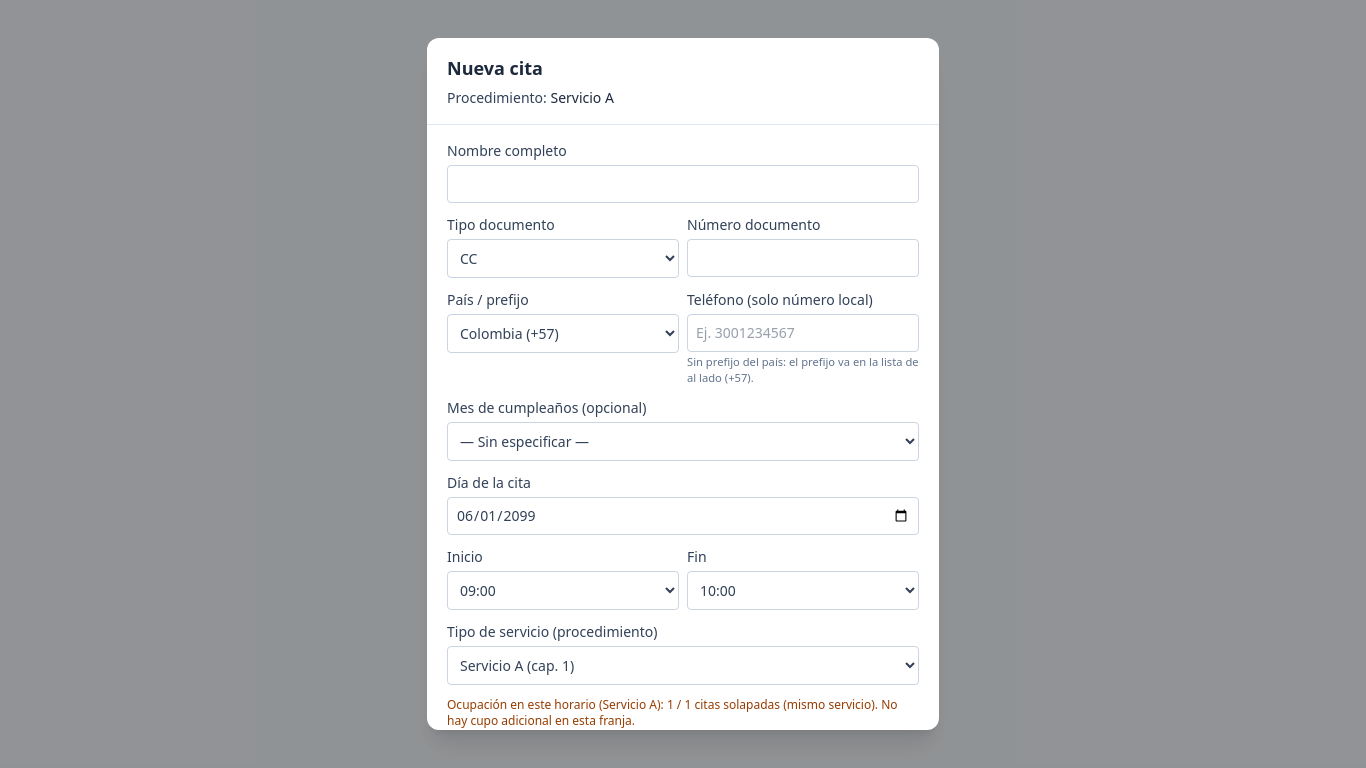
Test: AppointmentModal › bloquea el guardado cuando el cupo concurrente ya está lleno
Type "María Pérez García" into the 1st field at {"x": 683, "y": 184}, box 447,165 -> 919,203
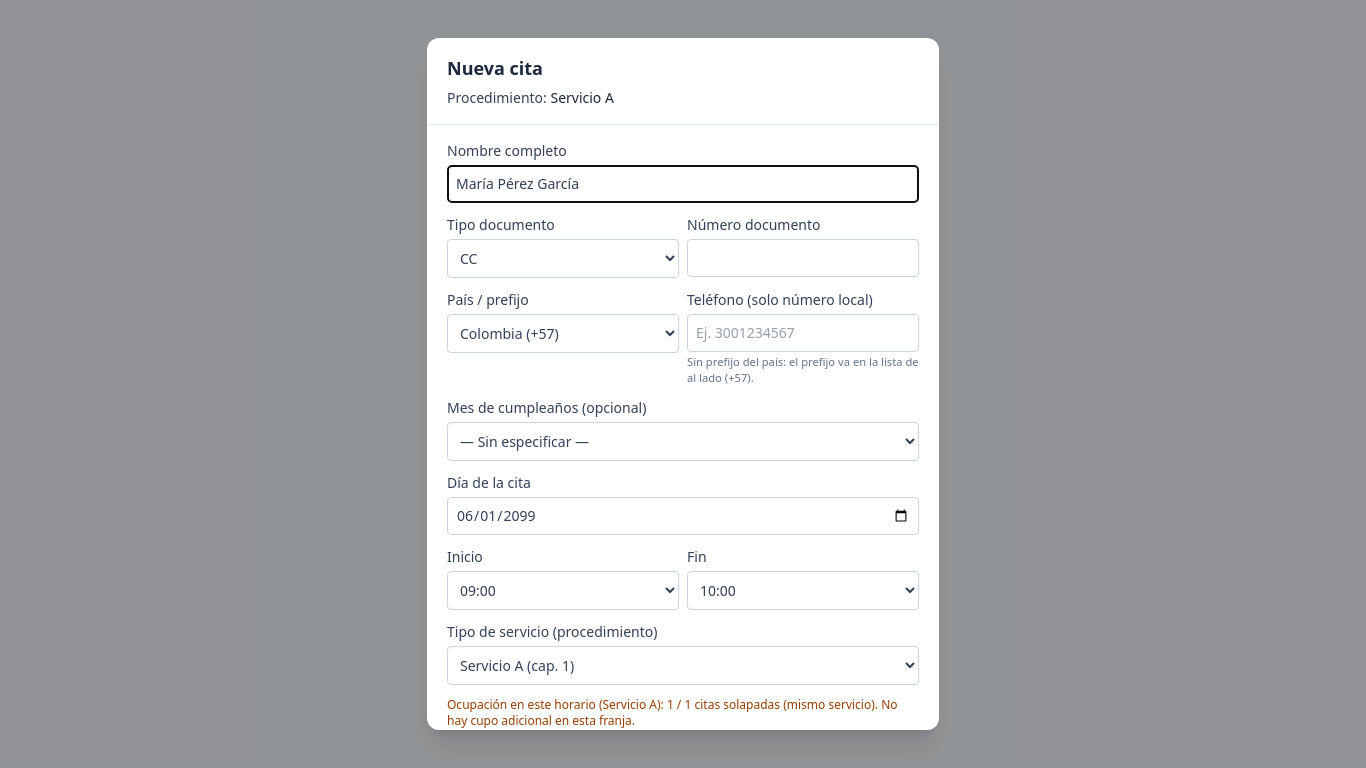
Type "1234567890" into the field labelled "Número documento" at {"x": 803, "y": 258}, box 687,239 -> 919,277
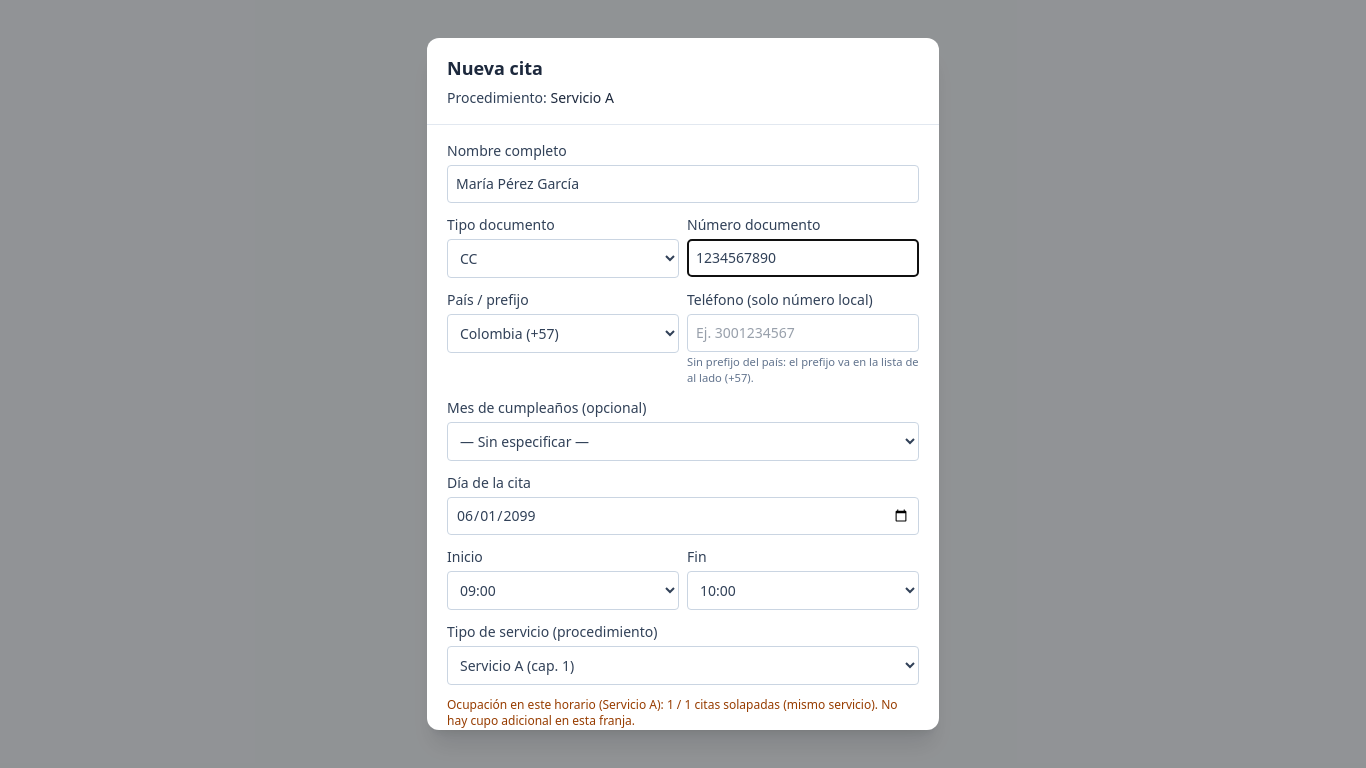
Type "3001234567" into the field labelled "Teléfono (solo número local)" at {"x": 803, "y": 333}, box 687,314 -> 919,352
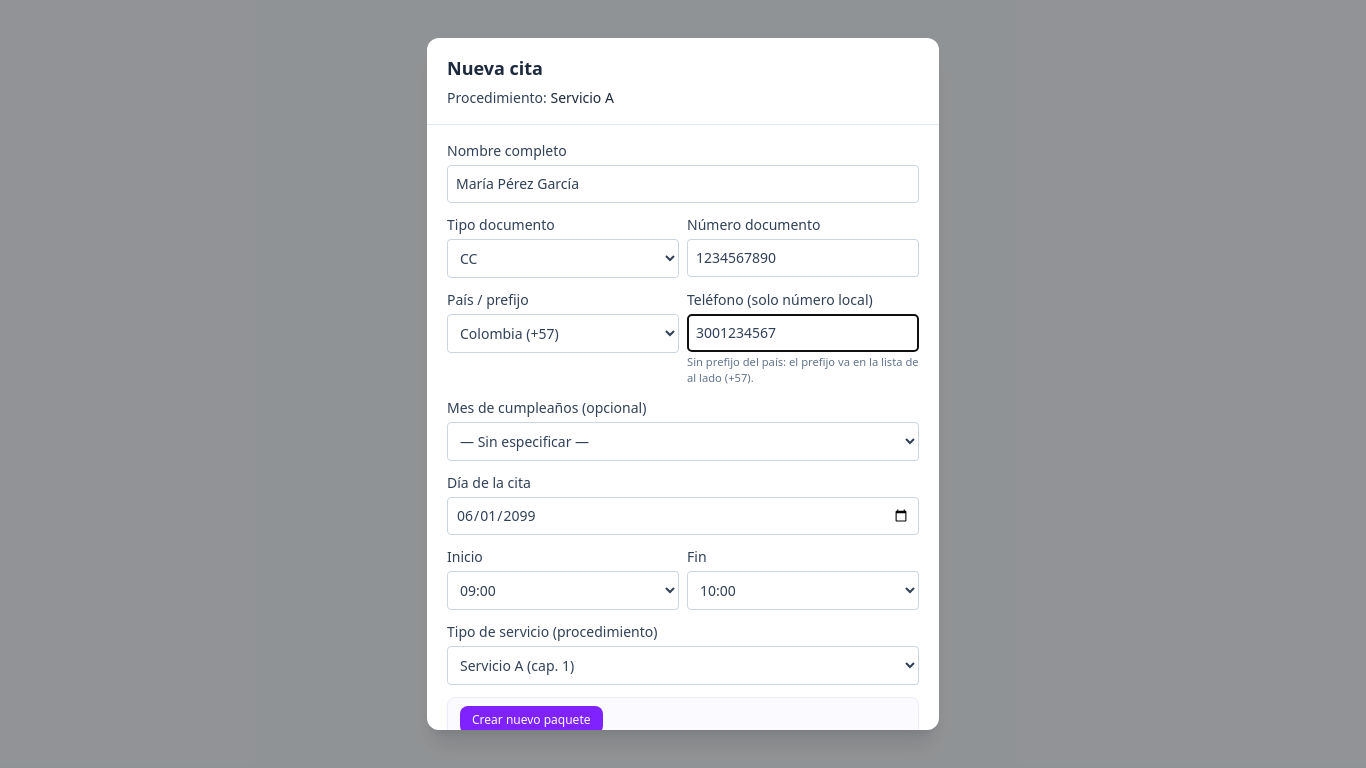
Select "09:00" in the dropdown labelled "Inicio" at {"x": 563, "y": 591}, box 447,571 -> 679,610
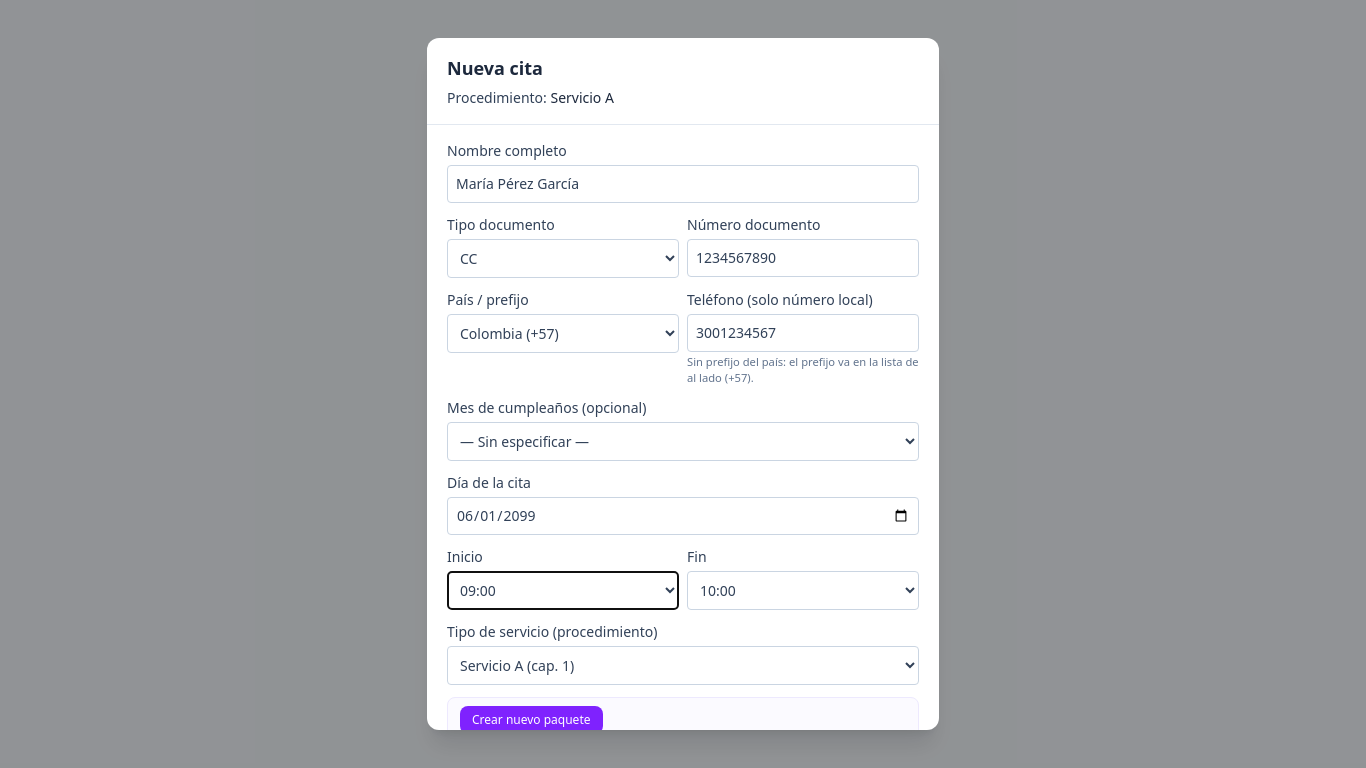
Select "10:00" in the dropdown labelled "Fin" at {"x": 803, "y": 591}, box 687,571 -> 919,610
(page scrolled)
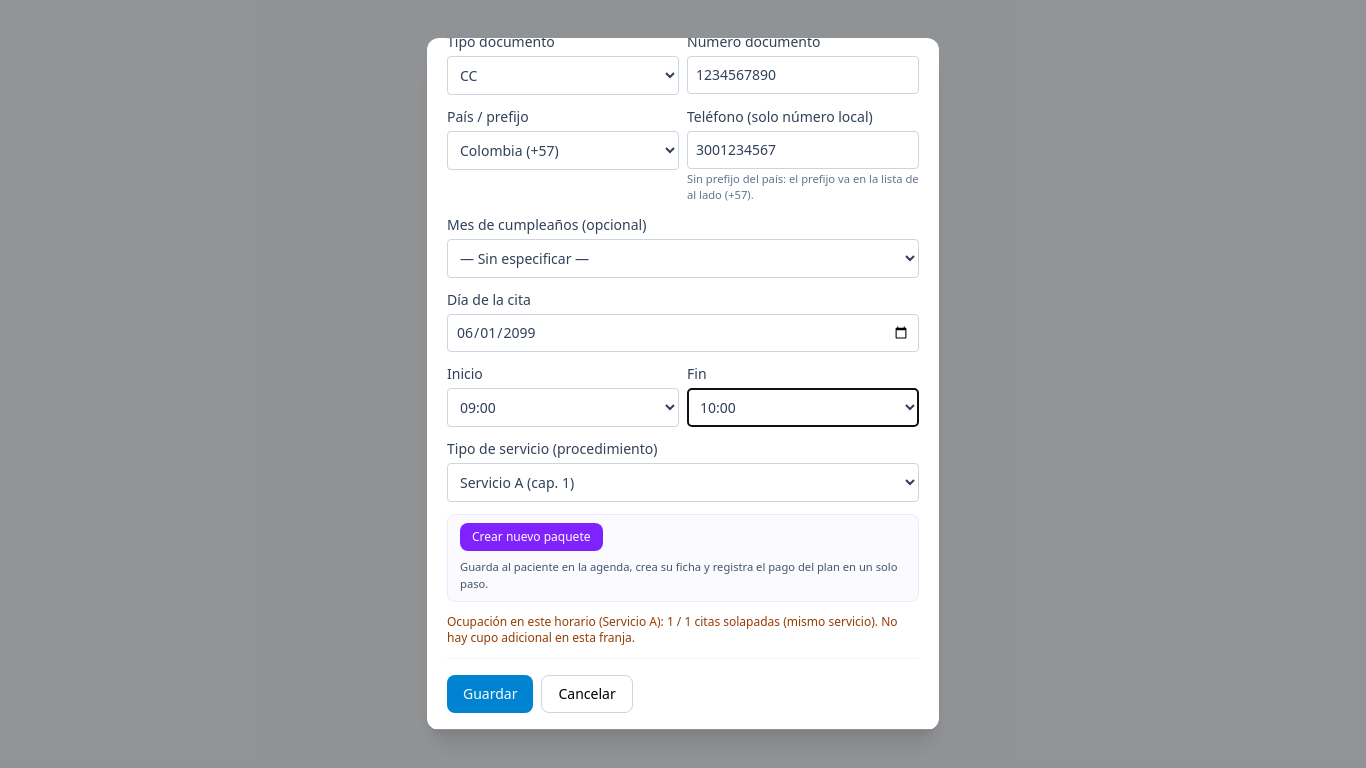
Click the button "Guardar" at {"x": 490, "y": 694}, box 447,675 -> 534,713
(page scrolled)
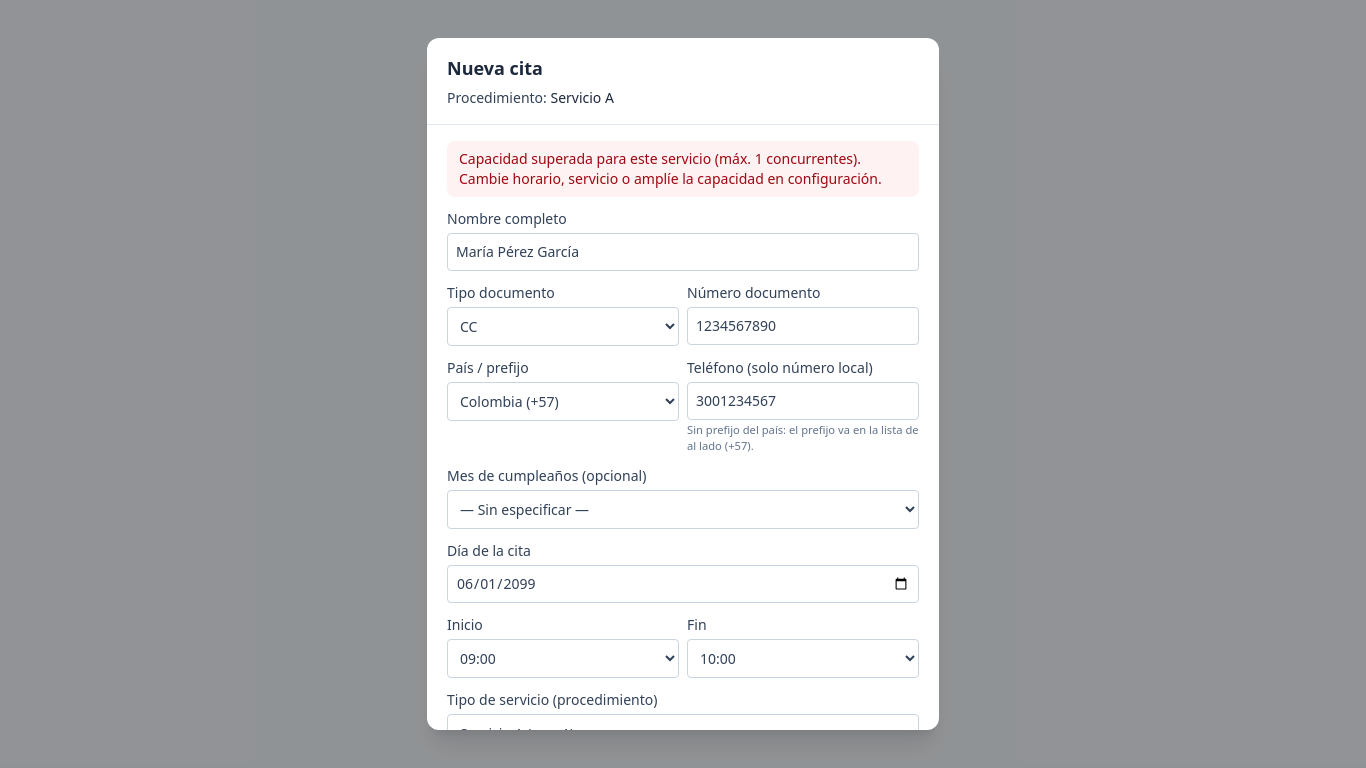
Now the message shows "Capacidad superada", box 459,149 -> 882,188
